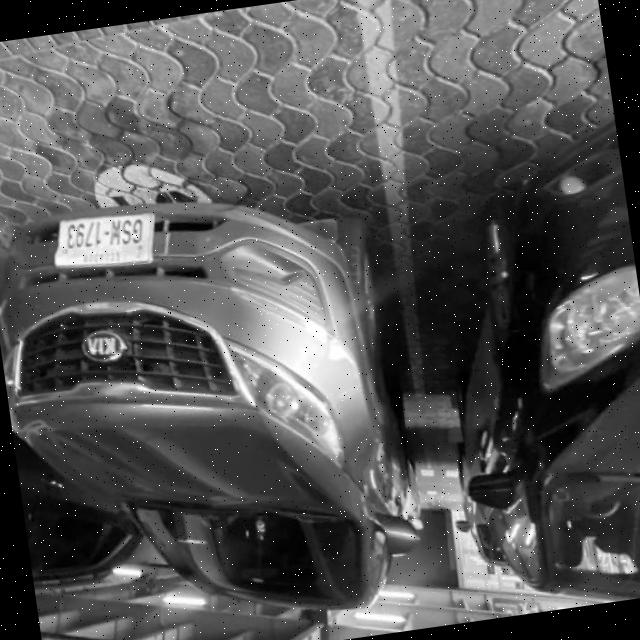Placa: (56, 213, 155, 267)
